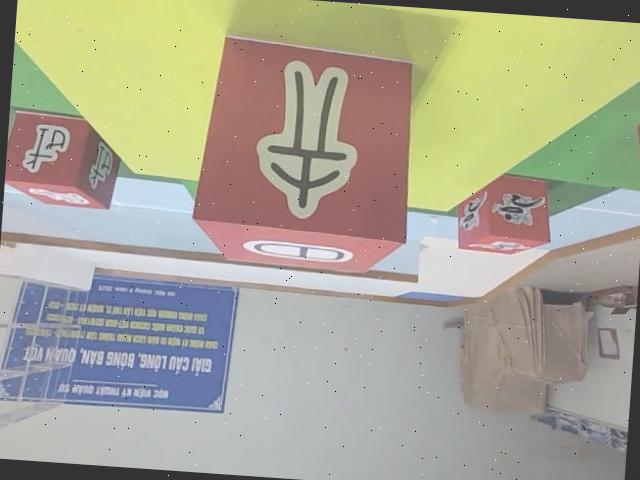R1: (449, 166, 552, 256)
R2 Fake: (189, 18, 425, 279)
R2 Real: (2, 100, 125, 216)
